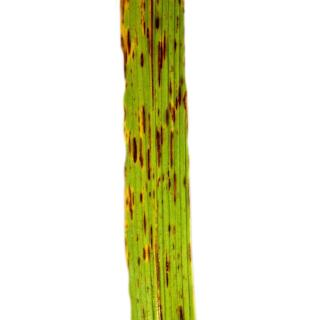Bercak-Cokelat-Sempit: (143, 23, 180, 78), (123, 104, 149, 164), (167, 80, 195, 121), (160, 168, 192, 200), (118, 26, 142, 62), (151, 126, 170, 166), (169, 128, 179, 164), (139, 212, 154, 232), (140, 244, 151, 264)
